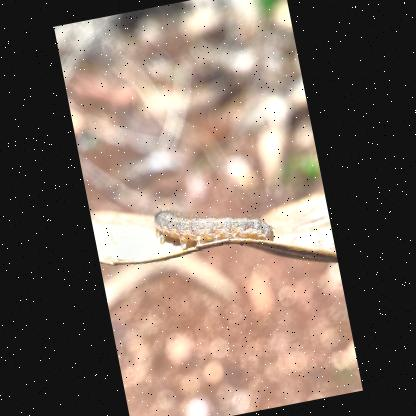Fall Armyworm Larvae: (148, 182, 281, 268)
